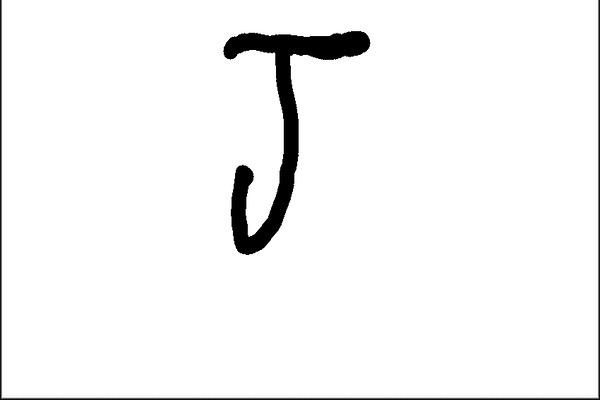J: (213, 22, 375, 258)
